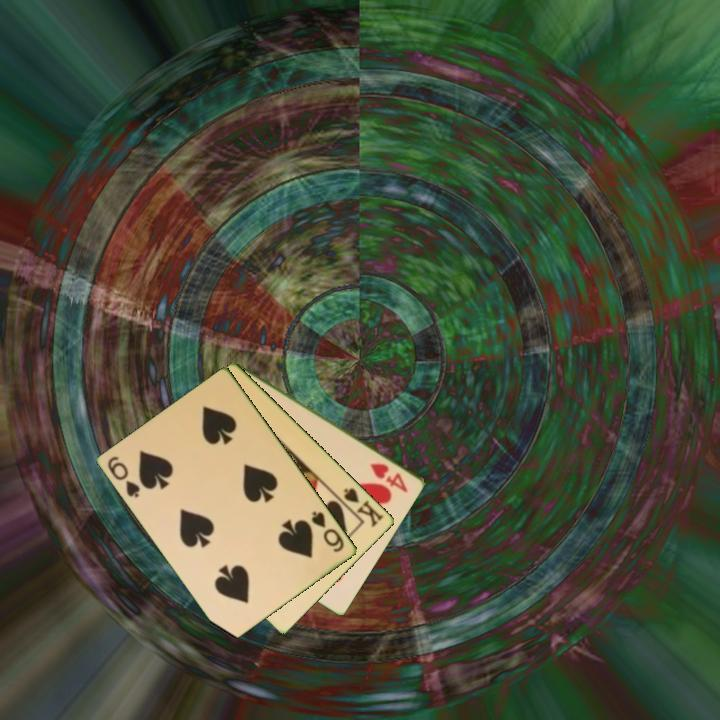4h: (367, 459, 412, 496)
6s: (308, 507, 348, 555), (104, 453, 143, 501)
Ks: (335, 484, 387, 530)
